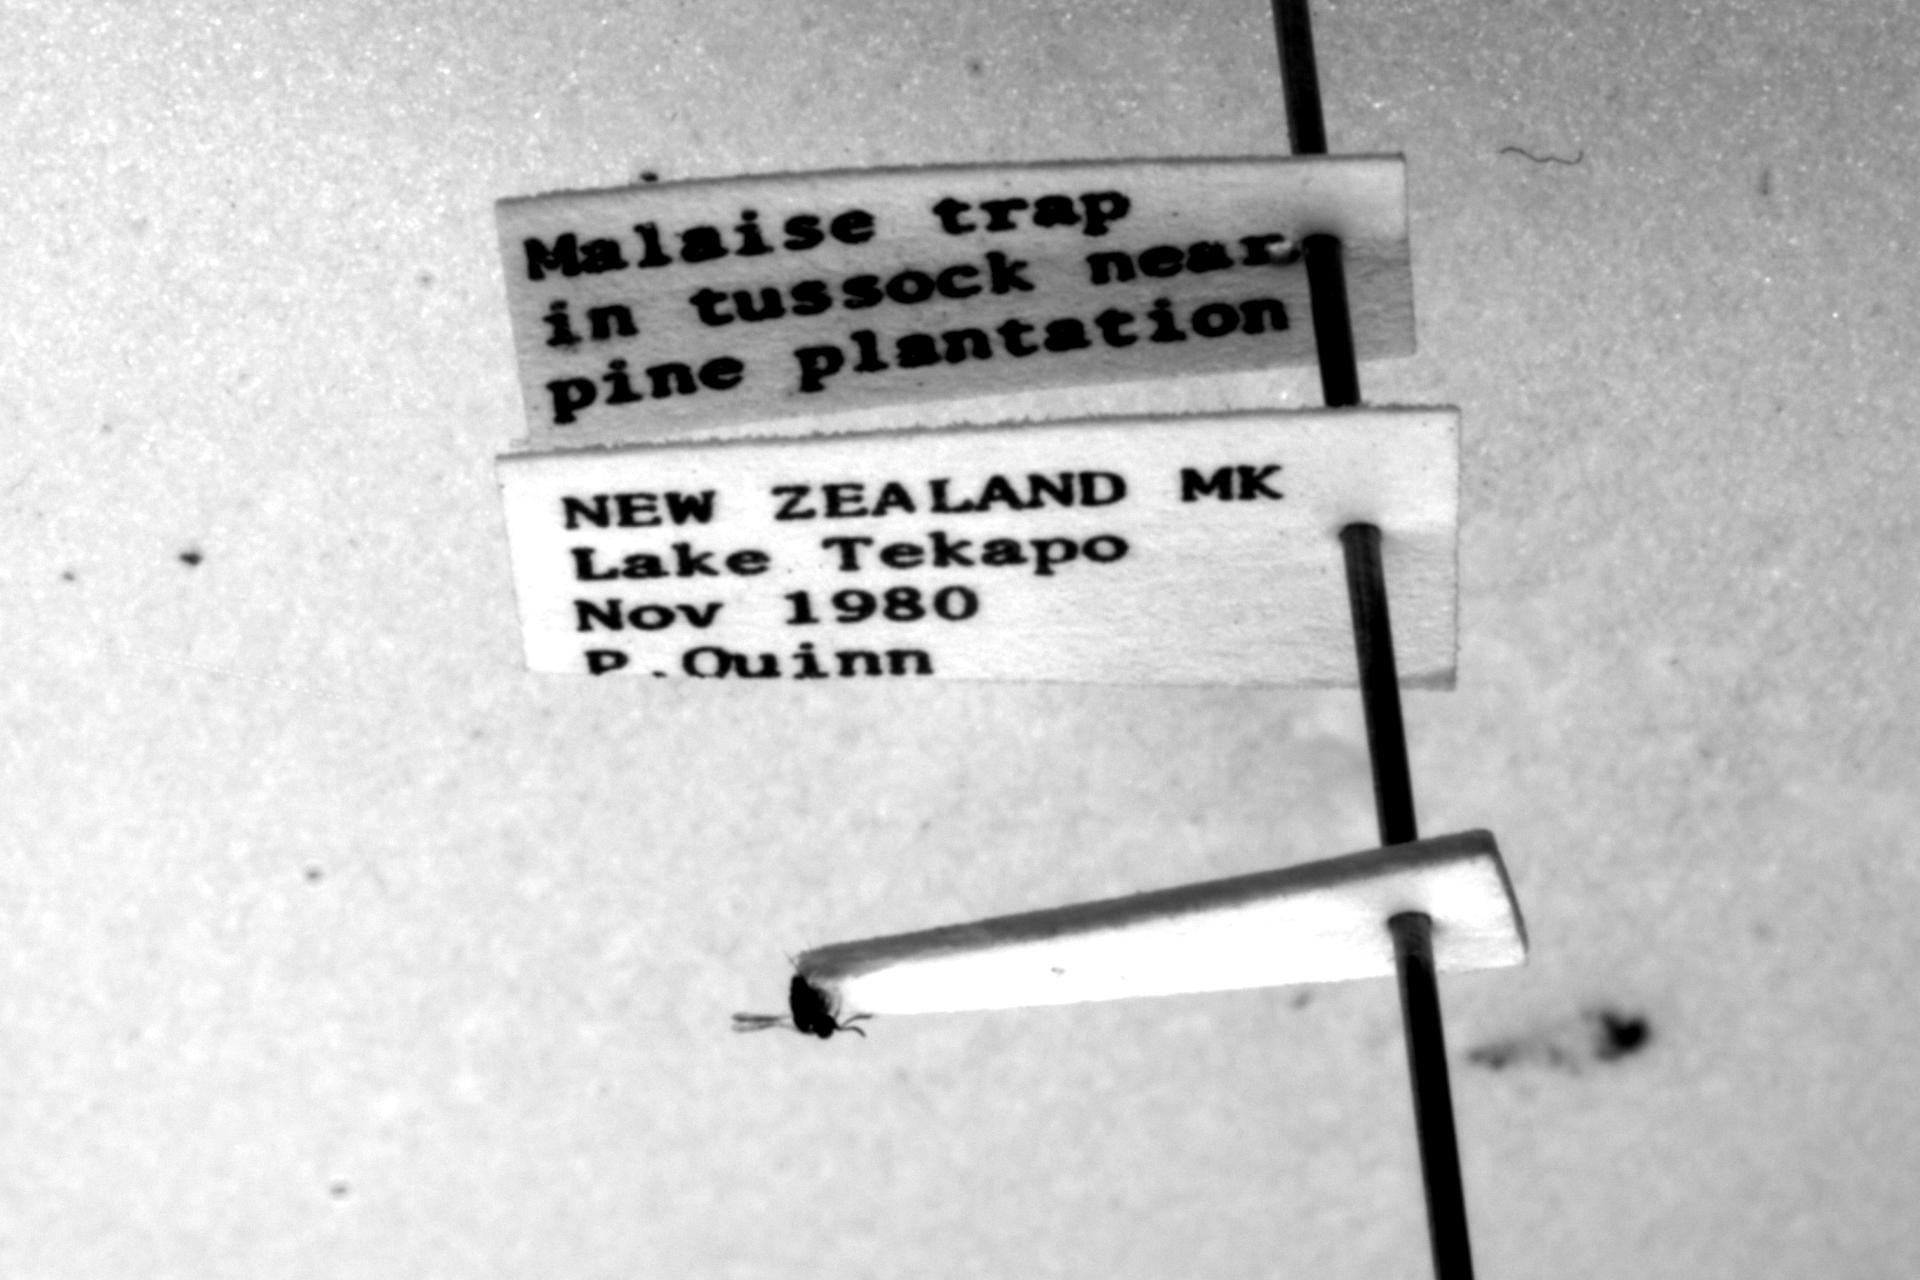typed_label: (494, 154, 1414, 450), (499, 409, 1459, 686)
